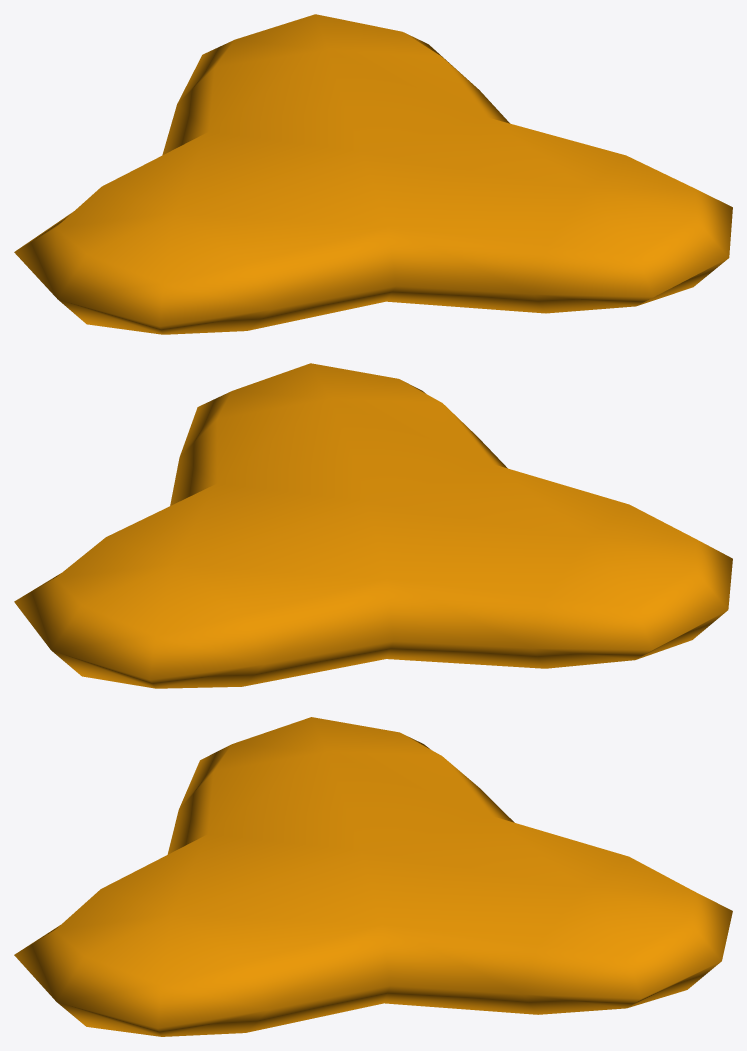
Rendered from field.fbx.
The picture shows the model from 3 angles, top to bottom: view 1: azimuth 30°, elevation 25°; view 2: azimuth 150°, elevation 25°; view 3: azimuth 270°, elevation 25°; orthographic projection.
Visible parts, largest first — view 1: Cube.023; view 2: Cube.023; view 3: Cube.023.
Part boxes in pixels (x1,y1,x2,y2): Cube.023: (14, 14, 732, 334); Cube.023: (14, 363, 732, 688); Cube.023: (14, 717, 732, 1036).
Size of the model in its own units: 721 by 108 by 751.
